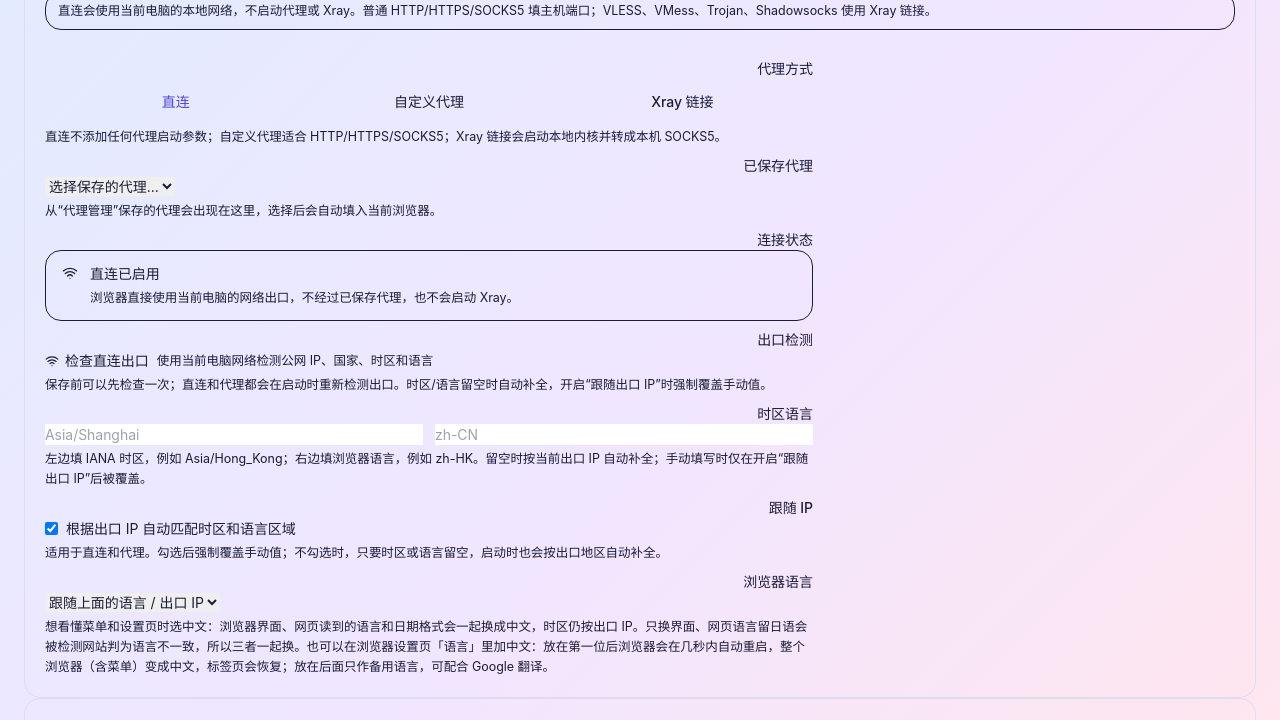
Scenario: ProfileForm proxy IP quality › shows whether the exit IP is flagged as a proxy
(page scrolled)
What coordinates should you click on to do the following:
click the button "检查直连出口"
I would click on:
 (97, 360)
Its box is [45, 350, 149, 371].
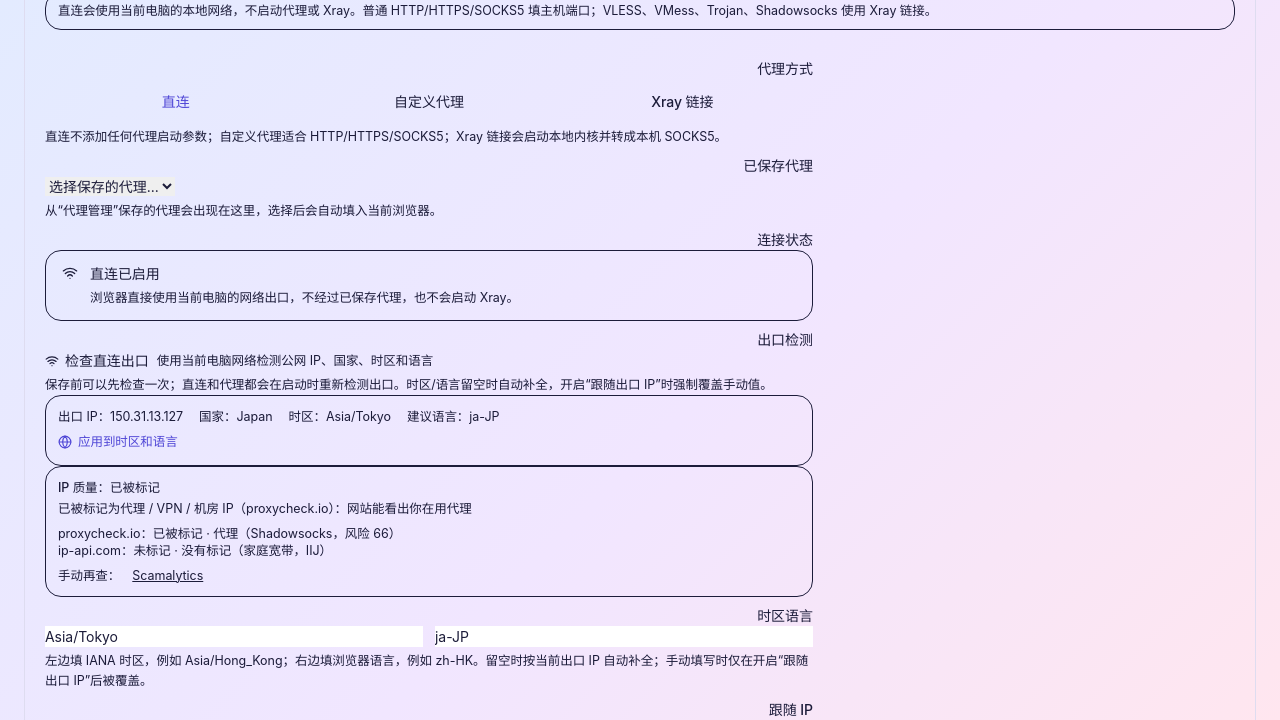
Expected: the element with test id "ip-quality" shows "IP 质量：已被标记", [45, 466, 813, 596]
Expected: the element with test id "ip-quality" shows "proxycheck.io：已被标记 · 代理（Shadowsocks，风险 66）", [45, 466, 813, 596]
